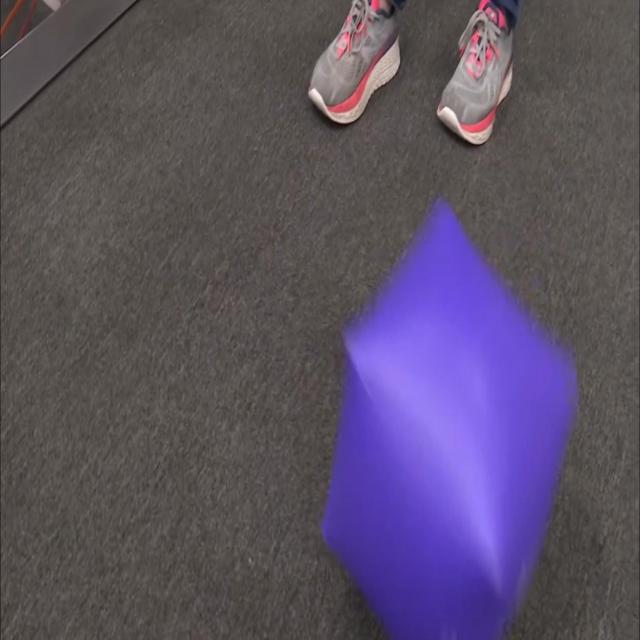frc_cube: (323, 201, 575, 640)
